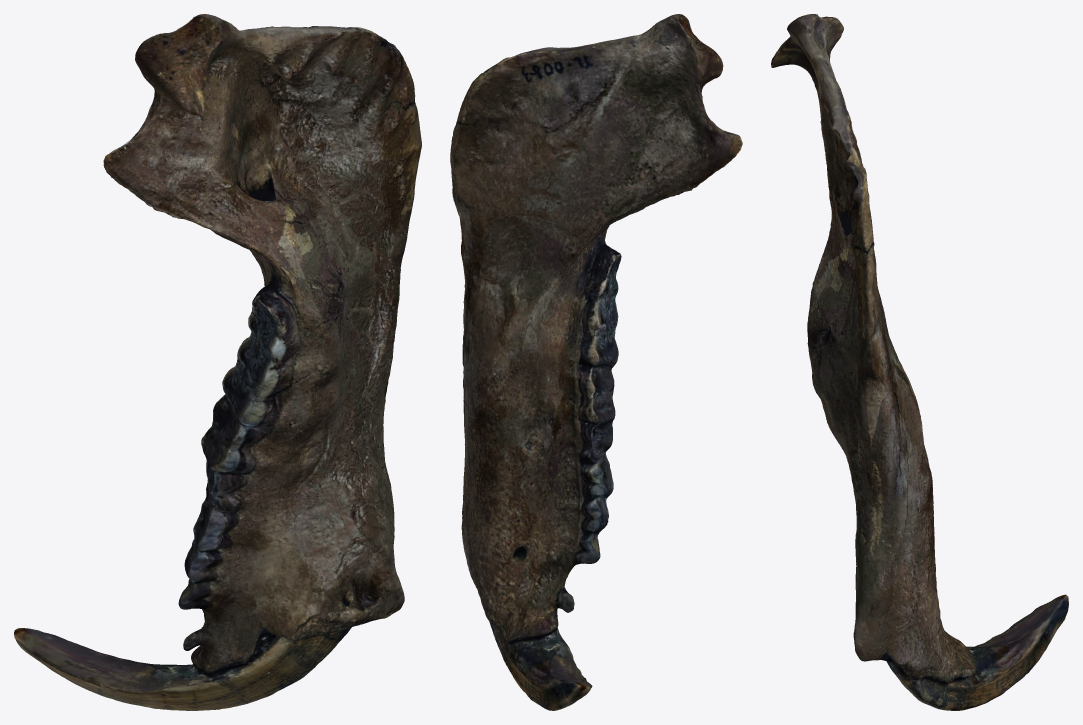
File: 3-4_Wild_Boar_Jaws_and_Teeth.glb
3 renders of one model, left to right at view 1: azimuth 30°, elevation 25°; view 2: azimuth 150°, elevation 25°; view 3: azimuth 270°, elevation 25°, orthographic. The views are drawn at different scales.
Parts seen in each view (by area): view 1: 3DModel; view 2: 3DModel; view 3: 3DModel.
Part boxes in pixels (left/top/right/bottom): 3DModel: left=14, top=14, right=421, bottom=710; 3DModel: left=450, top=14, right=742, bottom=710; 3DModel: left=771, top=14, right=1068, bottom=710.
Bounding box in the file's own units: 0.5001 × 1.11 × 0.4563.
Materials: 1 (1 with a texture image).
